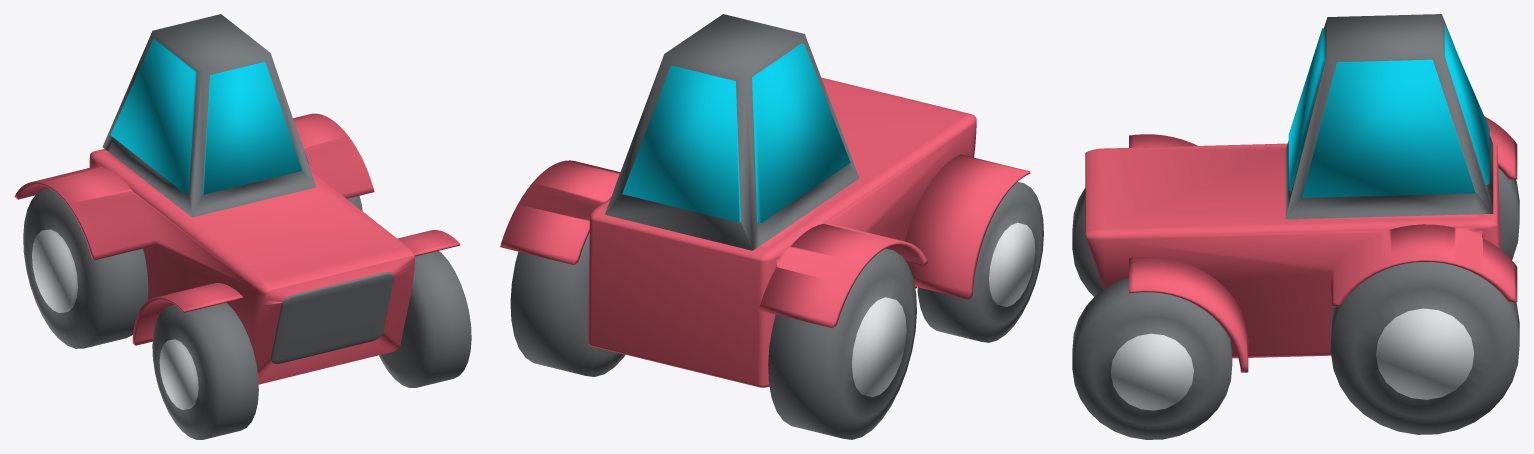
File: RedTractor.fbx
3 renders of one model, left to right at view 1: azimuth 30°, elevation 25°; view 2: azimuth 150°, elevation 25°; view 3: azimuth 270°, elevation 25°, orthographic. The views are drawn at different scales.
Parts seen in each view (by area): view 1: obj_0; view 2: obj_0; view 3: obj_0.
Boxes of the visible parts, x1,y1,x2,y2 form: obj_0: (14,14,471,439); obj_0: (500,14,1043,439); obj_0: (1072,14,1519,439).
Size of the model in its own units: 9061 by 8931 by 10768.
